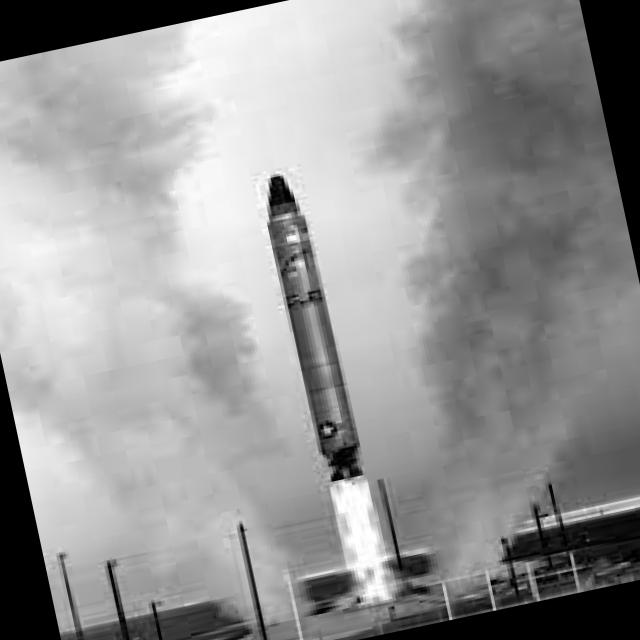rocket: (247, 160, 391, 544)
